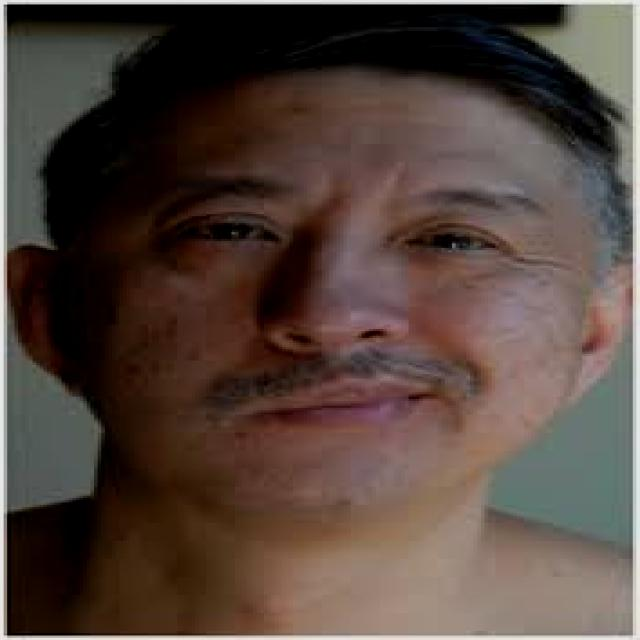stroke_face: (0, 38, 597, 539)
